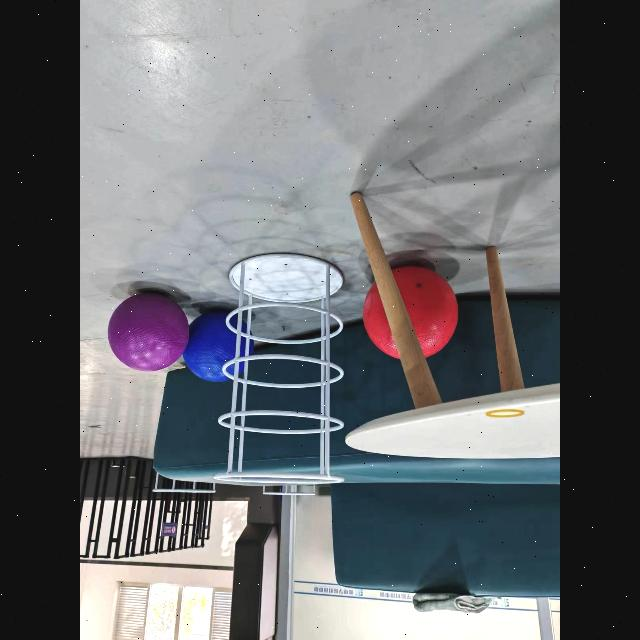B: (183, 311, 236, 382)
P: (108, 293, 189, 372)
R: (360, 262, 462, 364)
S: (215, 254, 344, 486)
